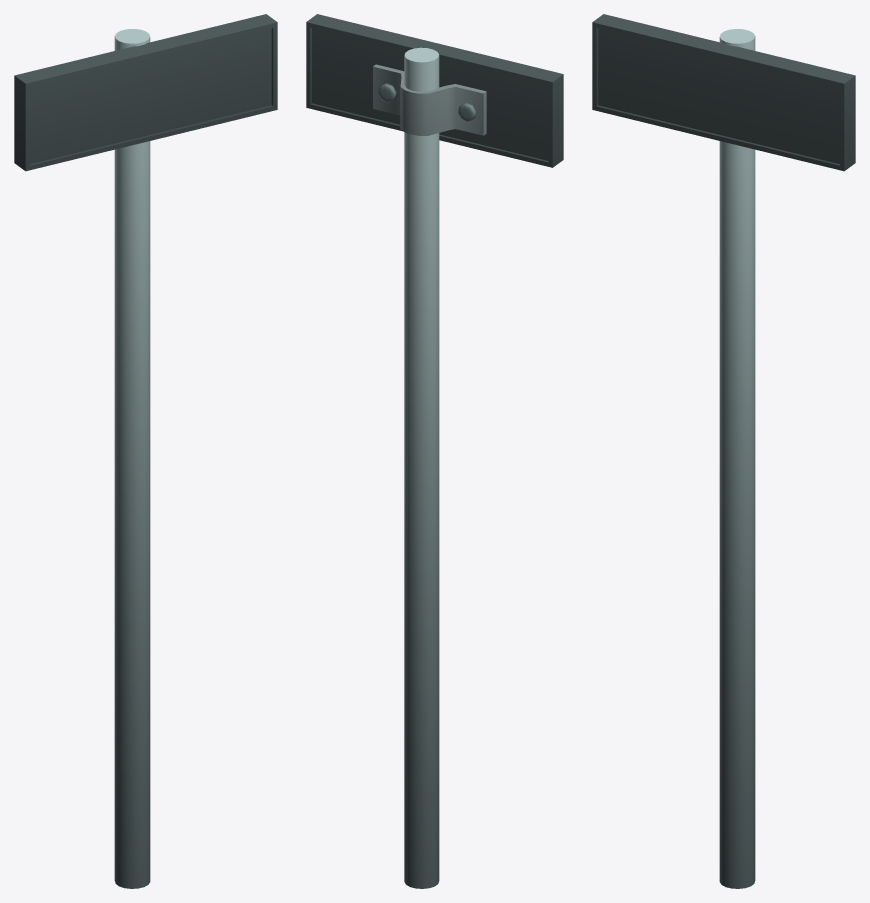
File: panneau rue wip.fbx
3 views of the same model, side by side, from view 1: azimuth 30°, elevation 25°; view 2: azimuth 150°, elevation 25°; view 3: azimuth 330°, elevation 25° (orthographic). The views are drawn at different scales.
Parts seen in each view (by area): view 1: Panneau_Tige.003; view 2: Panneau_Tige.003; view 3: Panneau_Tige.003.
Boxes of the visible parts, x1,y1,x2,y2 form: Panneau_Tige.003: [14, 14, 277, 888]; Panneau_Tige.003: [306, 14, 563, 888]; Panneau_Tige.003: [592, 14, 855, 888].
Bounding box in the file's own units: 318 × 1020 × 65.53.
